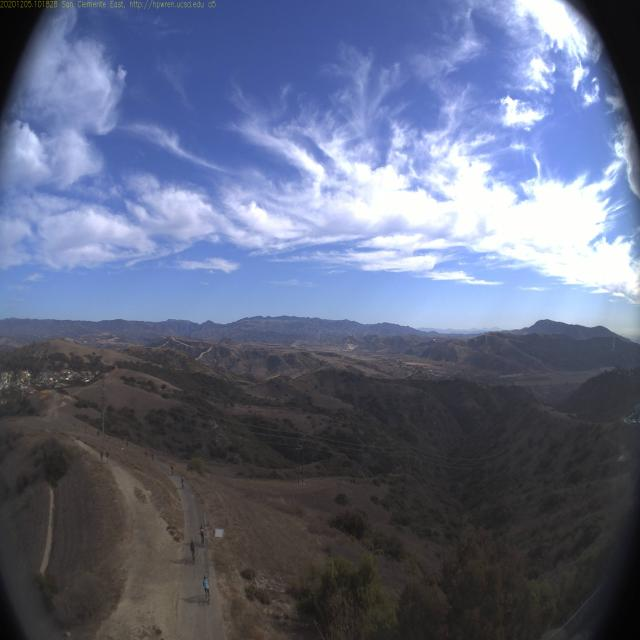smoke: (311, 326, 321, 352)
